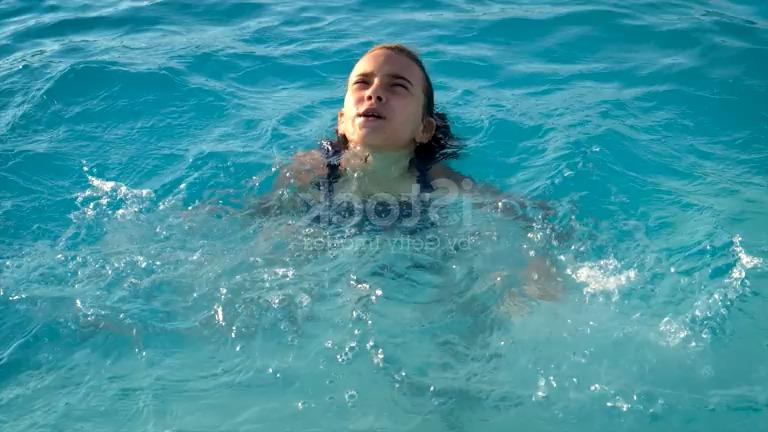Drowning: (138, 4, 654, 311)
